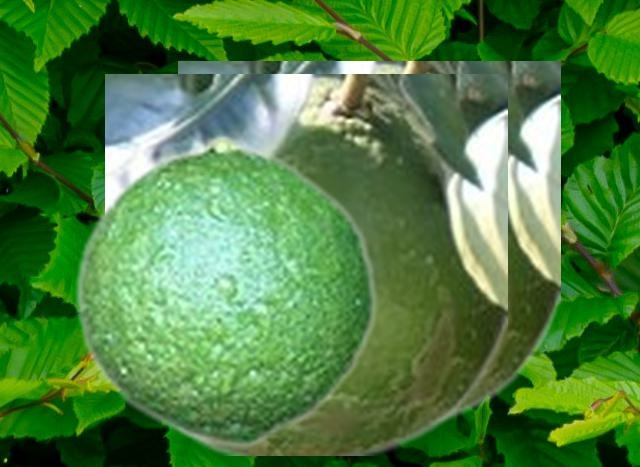dalandan: (105, 74, 506, 454), (178, 61, 559, 422), (72, 133, 377, 448)
